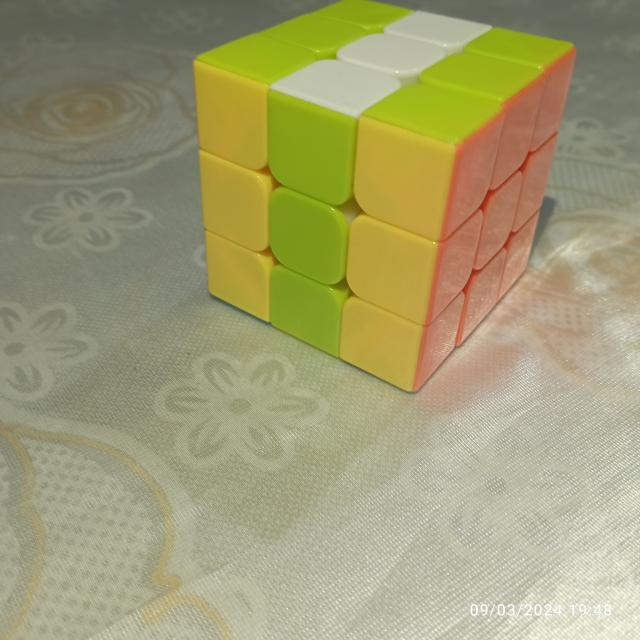Rub: (191, 0, 579, 396)
